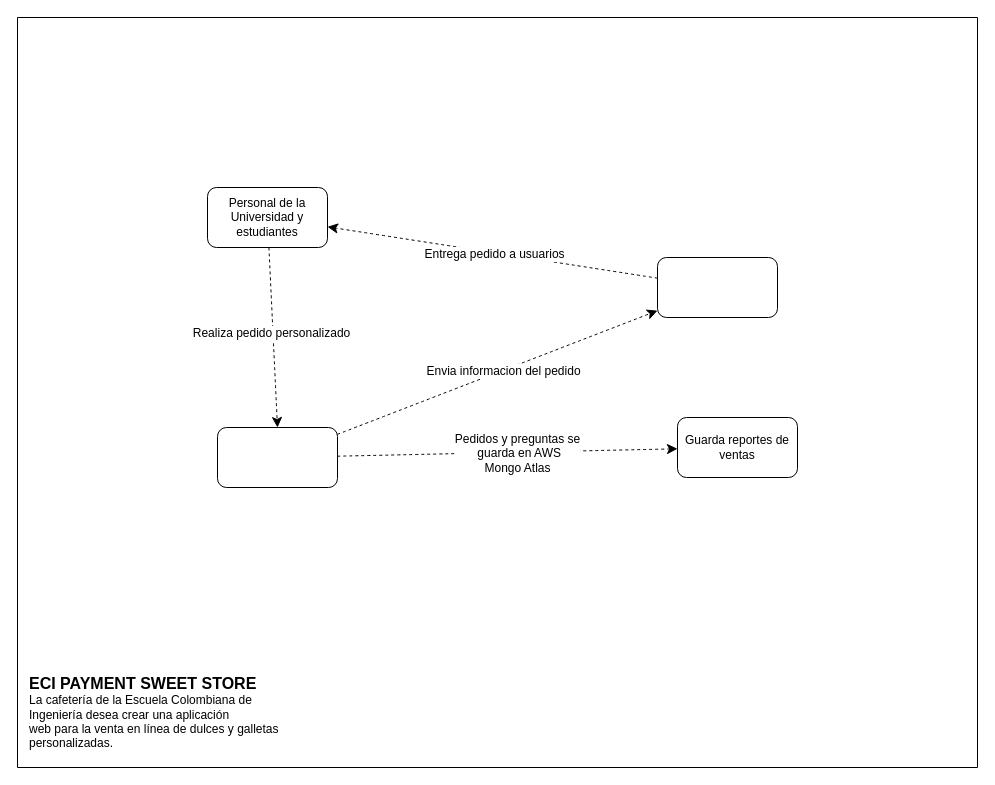
The diagram is 995 pixels wide and 785 high, and some of its shapes have lost their labels. The shapes that lost their labels are listed below. From the top down, each one's centre as x and y in pixels, then its label:
At pixel 717 287: "Preparacion pedido personalizado".
At pixel 277 457: "Cafeteria ECI PAYMENT SWEET STORE".
